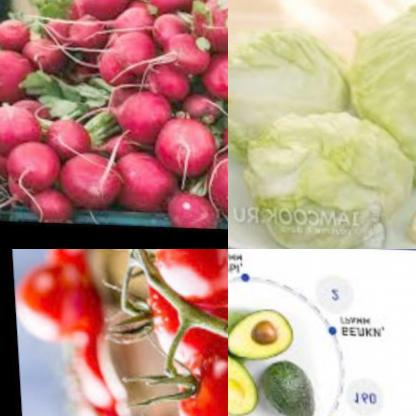avocado: (254, 351, 314, 416), (228, 304, 302, 356), (228, 351, 252, 416)
cabbage: (236, 110, 414, 249), (228, 20, 352, 156), (329, 0, 416, 164)
garlic: (399, 196, 416, 245)
rediska: (0, 0, 228, 230)
tomato: (19, 249, 151, 416), (135, 258, 228, 353), (162, 334, 228, 416), (143, 249, 228, 299)
